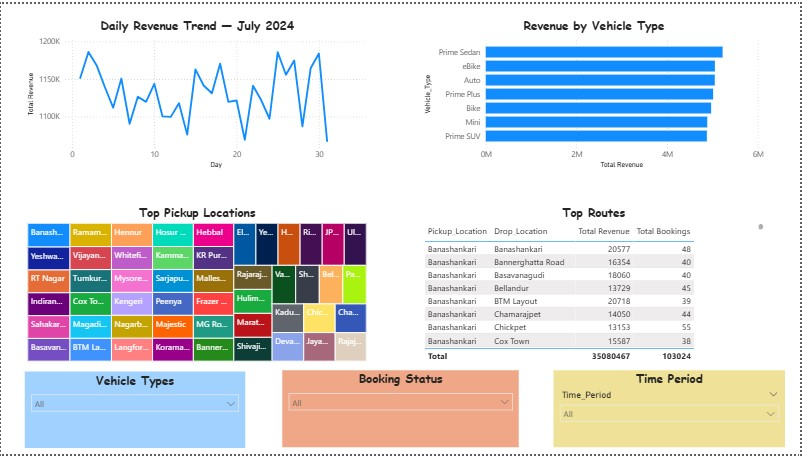

Layout of this report page (visuals, bound fields, positions):
{"tool":"powerbi","page":{"name":"Revenue Analysis","canvas":[1280,720],"ordinal":1},"visuals":[{"type":"lineChart","title":"Daily Revenue Trend — July 2024","fields":{"Category":["cleaned_bookings.Day"],"Y":["cleaned_bookings.Total Revenue"]},"box":[38.4,19.2,551.6,248.4],"z":0},{"type":"barChart","title":"Revenue by Vehicle Type","fields":{"Category":["cleaned_bookings.Vehicle_Type"],"Y":["cleaned_bookings.Total Revenue"]},"box":[671,19.2,553,248.4],"z":1000},{"type":"treemap","title":"Top Pickup Locations","fields":{"Group":["cleaned_bookings.Pickup_Location"],"Values":["cleaned_bookings.Total Bookings"]},"box":[38.4,319.7,551.6,256.6],"z":2000},{"type":"tableEx","title":"Top Routes","fields":{"Values":["cleaned_bookings.Pickup_Location","cleaned_bookings.Drop_Location","cleaned_bookings.Total Revenue","cleaned_bookings.Total Bookings"]},"box":[671,319.7,553,256.6],"z":3000},{"type":"slicer","title":"Vehicle Types","fields":{"Values":["cleaned_bookings.Vehicle_Type"]},"box":[38.4,587.3,352.7,122.1],"z":3001},{"type":"slicer","title":"Booking Status","fields":{"Values":["cleaned_bookings.Booking_Status"]},"box":[450.1,585.9,378.7,123.5],"z":3002},{"type":"slicer","title":"Time Period","fields":{"Values":["cleaned_bookings.Time_Period"]},"box":[883.7,585.9,370.5,123.5],"z":3003}]}

Visuals, with their boxes in screenshot pixels (x1, y1, x2, y2), scaled from the page's 1280x720 canvas onto the 802x457 screenshot:
"Daily Revenue Trend — July 2024" lineChart: [x1=24, y1=12, x2=370, y2=170]
"Revenue by Vehicle Type" barChart: [x1=420, y1=12, x2=767, y2=170]
"Top Pickup Locations" treemap: [x1=24, y1=203, x2=370, y2=366]
"Top Routes" tableEx: [x1=420, y1=203, x2=767, y2=366]
"Vehicle Types" slicer: [x1=24, y1=373, x2=245, y2=450]
"Booking Status" slicer: [x1=282, y1=372, x2=519, y2=450]
"Time Period" slicer: [x1=554, y1=372, x2=786, y2=450]
